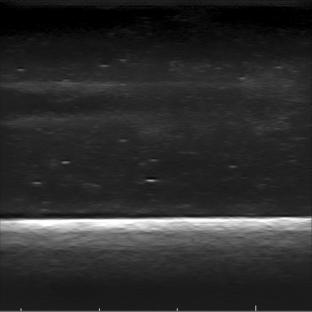vessel: (0, 79, 51, 133)
